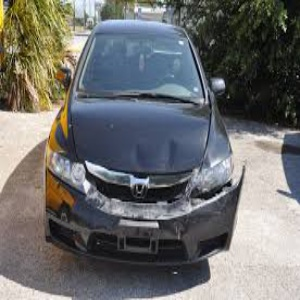bumper: (119, 163, 253, 268)
